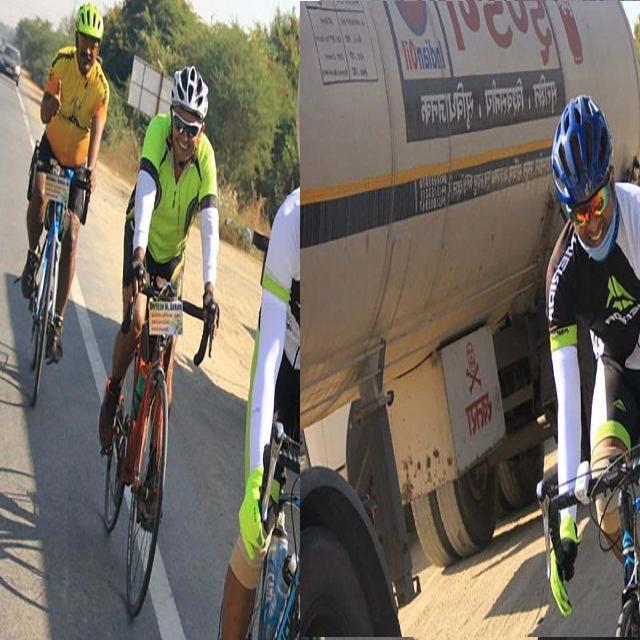bicycle: (220, 95, 402, 639), (98, 67, 219, 617), (20, 5, 109, 404)
truck: (300, 1, 640, 637)
